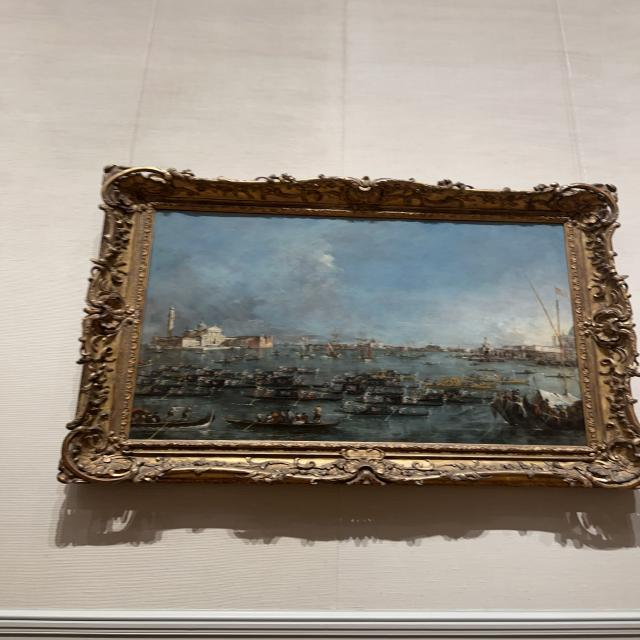ships: (128, 209, 589, 446)
